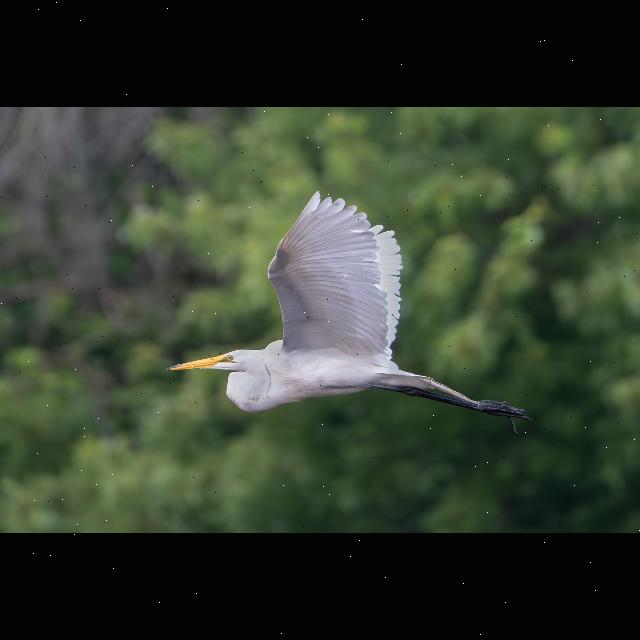egret: (160, 189, 534, 435)
